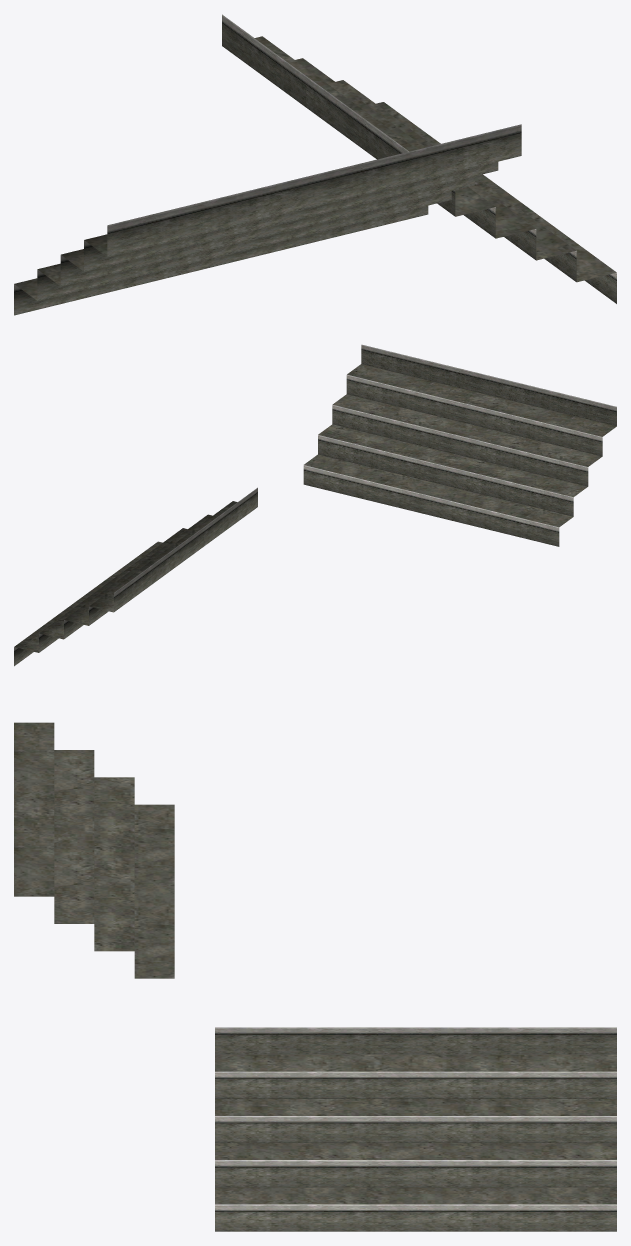
Rendered from DWARF_PALACE_MAINHALL_STAIRS_04.fbx.
3 views of the same model, one above another, from view 1: azimuth 30°, elevation 25°; view 2: azimuth 150°, elevation 25°; view 3: azimuth 270°, elevation 25° (orthographic). The views are drawn at different scales.
Visible parts, largest first — view 1: DWARF_PALACE_MAINHALL_STAIRS_04; view 2: DWARF_PALACE_MAINHALL_STAIRS_04; view 3: DWARF_PALACE_MAINHALL_STAIRS_04.
Boxes of the visible parts, x1,y1,x2,y2 form: DWARF_PALACE_MAINHALL_STAIRS_04: [14, 14, 616, 315]; DWARF_PALACE_MAINHALL_STAIRS_04: [14, 344, 616, 666]; DWARF_PALACE_MAINHALL_STAIRS_04: [14, 722, 616, 1231].
Bounding box in the file's own units: 62000 × 30000 × 60000.
Materials: 2 (2 with a texture image).
